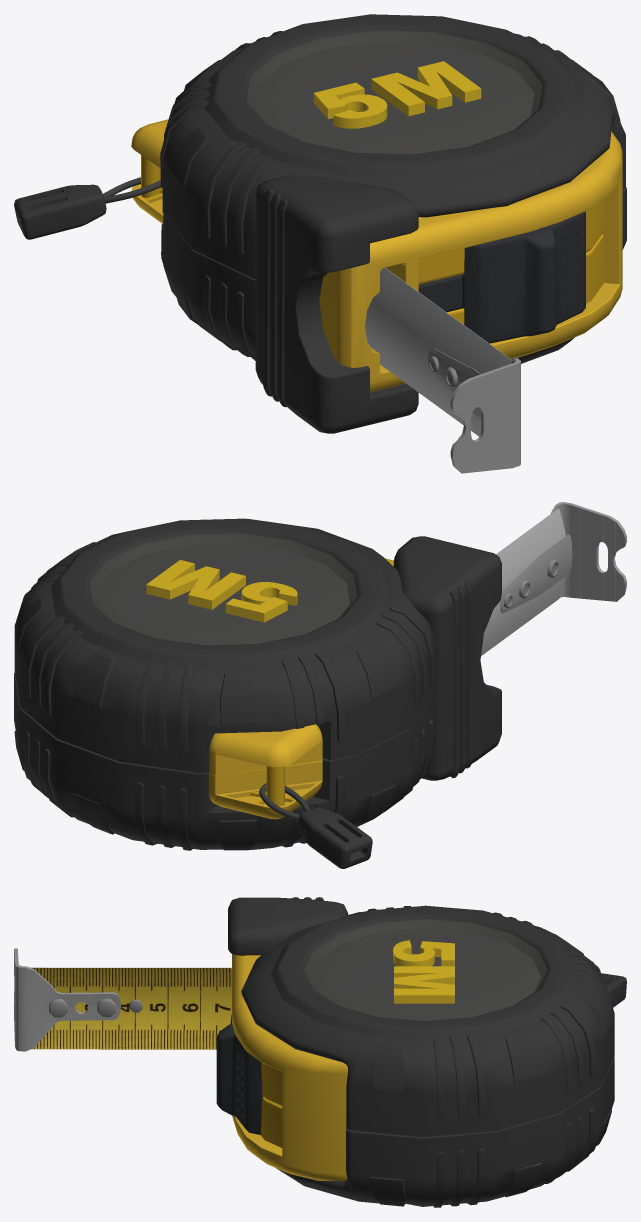
Rendered from tape_measure.glb.
The picture shows the model from 3 angles, top to bottom: view 1: azimuth 30°, elevation 25°; view 2: azimuth 150°, elevation 25°; view 3: azimuth 270°, elevation 25°; orthographic projection. The views are drawn at different scales.
Parts seen in each view (by area): view 1: polySurface144, pCube193, polySurface23, polySurface206, polySurface176, polySurface205, polySurface143, polySurface198, typeMesh1, pCube192, polySurface208, polySurface178 (+5 smaller); view 2: polySurface144, polySurface143, polySurface23, pCube193, typeMesh1, polySurface198, polySurface212, polySurface205, polySurface211, pCube192, polySurface201, polySurface218 (+1 smaller); view 3: polySurface144, polySurface143, polySurface23, polySurface205, polySurface206, pCube193, polySurface198, polySurface176, typeMesh1, polySurface209, polySurface210, pCube192.
Boxes of the visible parts, box(x1,y1,x2,y2) form: polySurface144: box(160, 31, 625, 278); pCube193: box(255, 175, 418, 433); polySurface23: box(204, 14, 583, 177); polySurface206: box(319, 131, 622, 392); polySurface176: box(462, 211, 585, 343); polySurface205: box(365, 267, 512, 436); polySurface143: box(161, 187, 626, 363); polySurface198: box(450, 358, 520, 473); typeMesh1: box(313, 61, 481, 128); pCube192: box(14, 184, 106, 239); polySurface208: box(418, 248, 464, 284); polySurface178: box(418, 274, 462, 312); polySurface144: box(14, 519, 436, 772); polySurface143: box(14, 673, 435, 850); polySurface23: box(51, 518, 394, 668); pCube193: box(393, 536, 501, 780); typeMesh1: box(146, 560, 297, 622); polySurface198: box(551, 502, 626, 601); polySurface212: box(208, 724, 322, 775); polySurface205: box(481, 508, 565, 655); polySurface211: box(209, 760, 322, 819); pCube192: box(298, 807, 372, 868); polySurface201: box(500, 534, 572, 613); polySurface218: box(266, 766, 284, 806); polySurface144: box(241, 906, 614, 1136); polySurface143: box(276, 1057, 614, 1207); polySurface23: box(271, 905, 582, 1041); polySurface205: box(30, 967, 231, 1049); polySurface206: box(232, 954, 347, 1180); pCube193: box(228, 897, 348, 955); polySurface198: box(14, 948, 120, 1051); polySurface176: box(216, 1014, 263, 1134); typeMesh1: box(393, 940, 454, 1003); polySurface209: box(260, 1096, 282, 1147); polySurface210: box(261, 1062, 282, 1106); pCube192: box(601, 973, 626, 1007).
Size of the model in its own units: 3.35 by 1.63 by 4.61.
12 materials, 1 textured.
